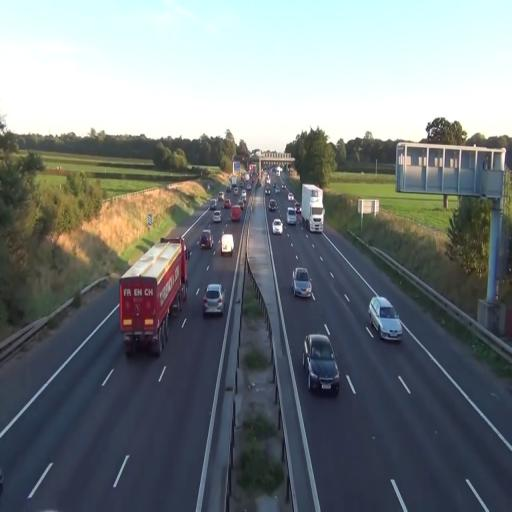vehicle: (119, 237, 189, 356), (118, 238, 188, 355), (304, 332, 340, 394), (303, 335, 339, 395), (366, 296, 403, 343), (369, 297, 402, 341), (300, 183, 324, 234), (301, 183, 324, 234), (302, 185, 324, 232), (292, 267, 314, 300), (203, 283, 224, 317), (204, 284, 224, 315), (292, 268, 312, 298), (221, 233, 234, 256), (199, 230, 213, 251), (221, 234, 234, 255), (210, 204, 223, 224), (286, 204, 298, 225), (200, 230, 213, 248), (272, 218, 283, 236), (286, 207, 297, 225), (231, 205, 241, 221), (272, 220, 283, 234), (213, 210, 221, 223), (0, 468, 3, 497), (210, 199, 217, 210), (269, 200, 276, 211), (238, 199, 244, 211), (295, 203, 301, 214), (231, 176, 237, 187), (224, 200, 231, 209), (241, 190, 246, 202), (218, 192, 224, 201), (276, 166, 281, 176), (288, 193, 294, 201), (244, 173, 249, 182), (265, 187, 270, 195), (275, 186, 280, 194), (241, 190, 246, 198), (234, 187, 238, 195), (226, 186, 231, 192), (247, 183, 251, 190), (273, 183, 277, 189), (282, 183, 286, 189), (251, 178, 254, 184)
